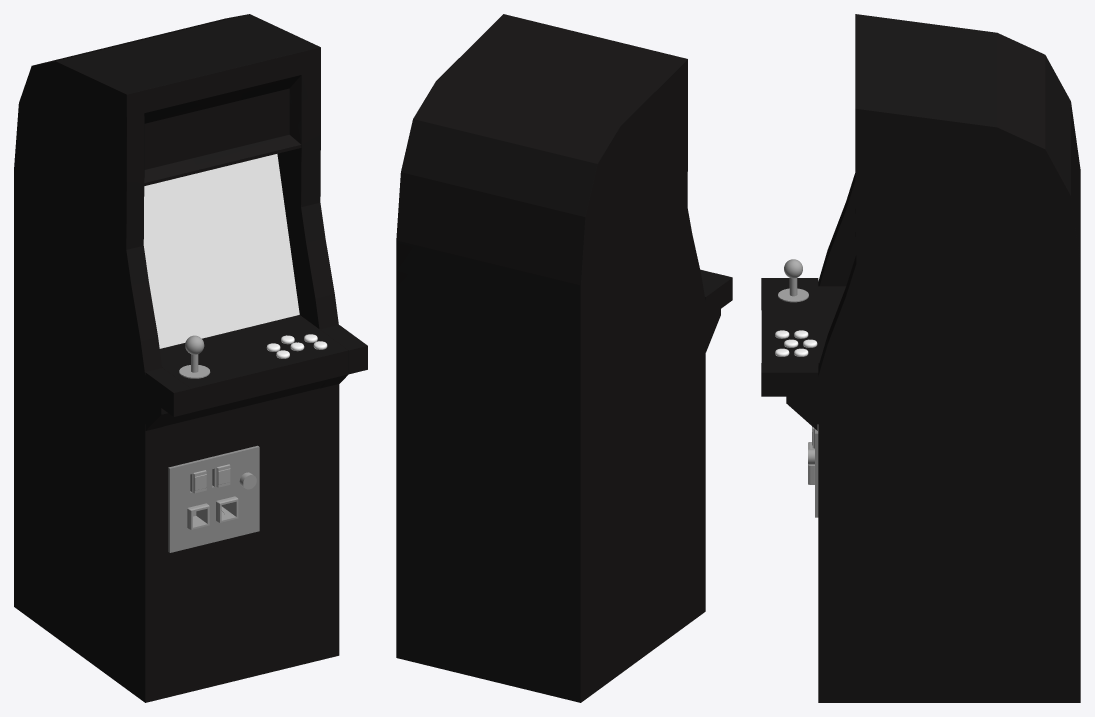
Rendered from arcadetest.fbx.
The picture shows the model from 3 angles, left to right: view 1: azimuth 30°, elevation 25°; view 2: azimuth 150°, elevation 25°; view 3: azimuth 270°, elevation 25°; orthographic projection. The views are drawn at different scales.
Visible parts, largest first — view 1: arcarde_machine_body_low, screen_low, coindoor_low, pCylinder3; view 2: arcarde_machine_body_low; view 3: arcarde_machine_body_low, pCylinder3.
Part boxes in pixels (x1,y1,x2,y2): arcarde_machine_body_low: (14,14,367,702); screen_low: (143,154,299,348); coindoor_low: (168,445,259,552); pCylinder3: (179,335,210,378); arcarde_machine_body_low: (396,14,732,702); arcarde_machine_body_low: (761,14,1080,702); pCylinder3: (778,259,808,302).
Bounding box in the file's own units: 525 × 1537 × 748.
